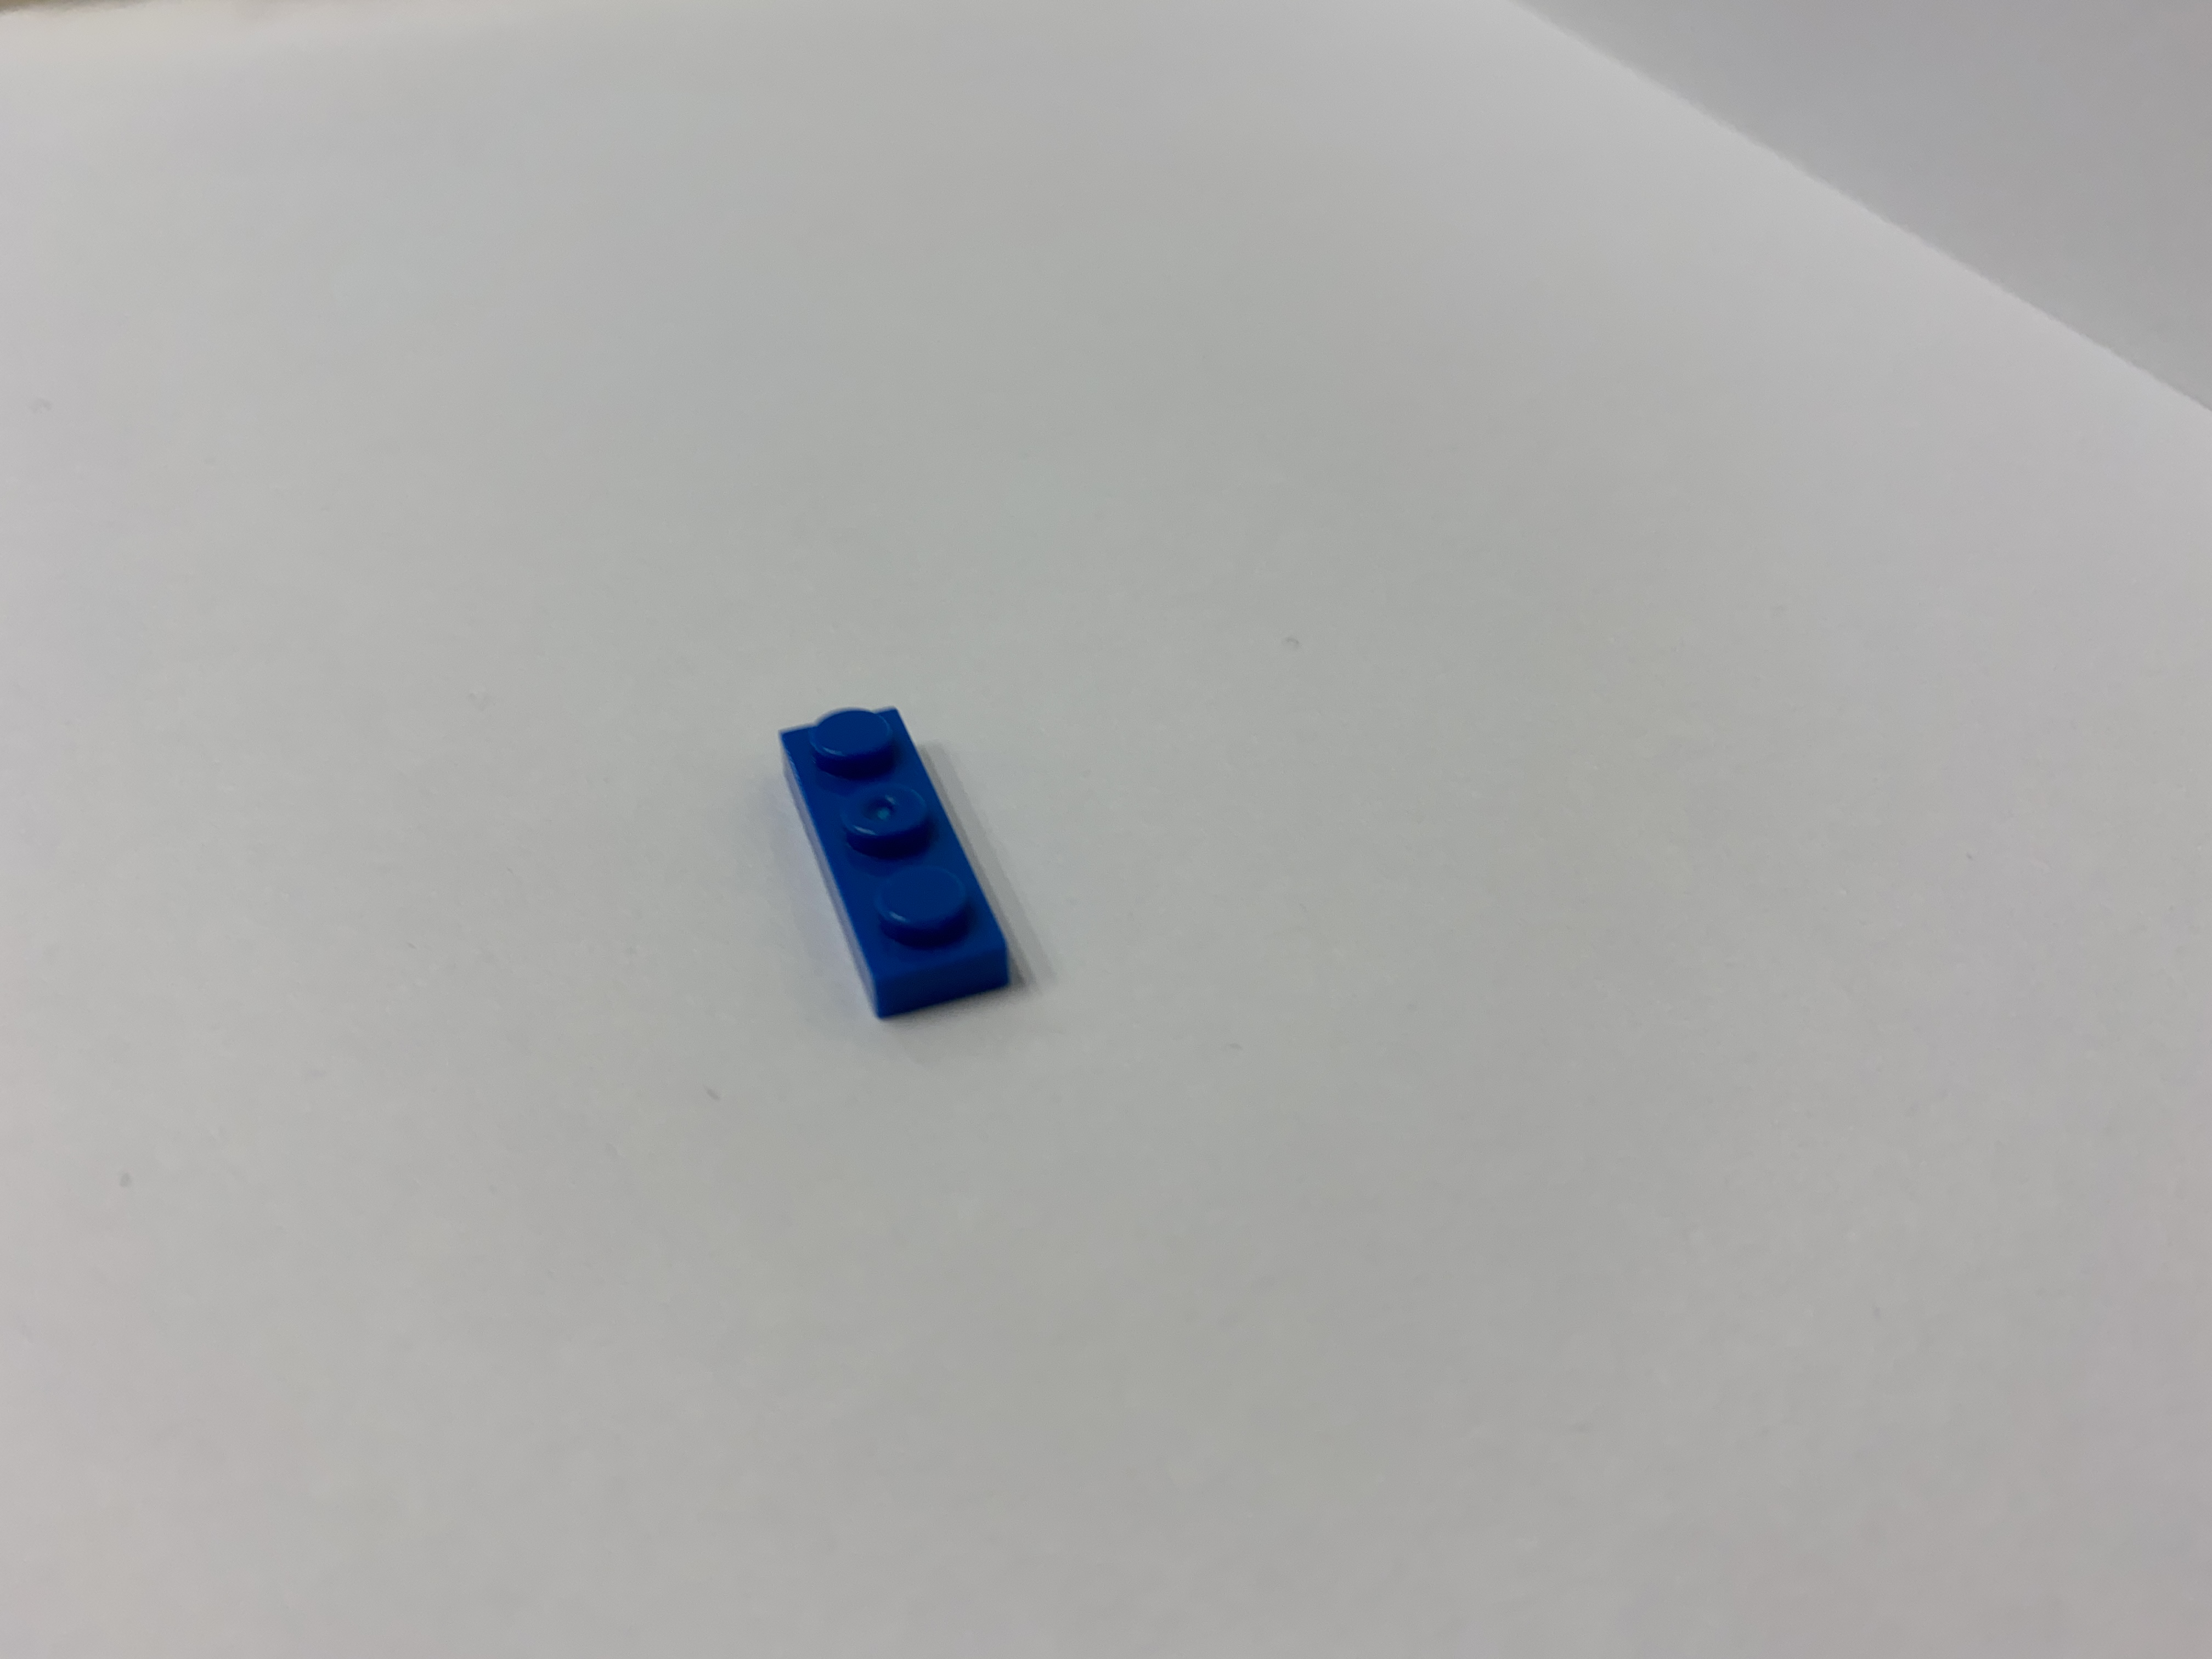car: (742, 695, 1069, 1042)
